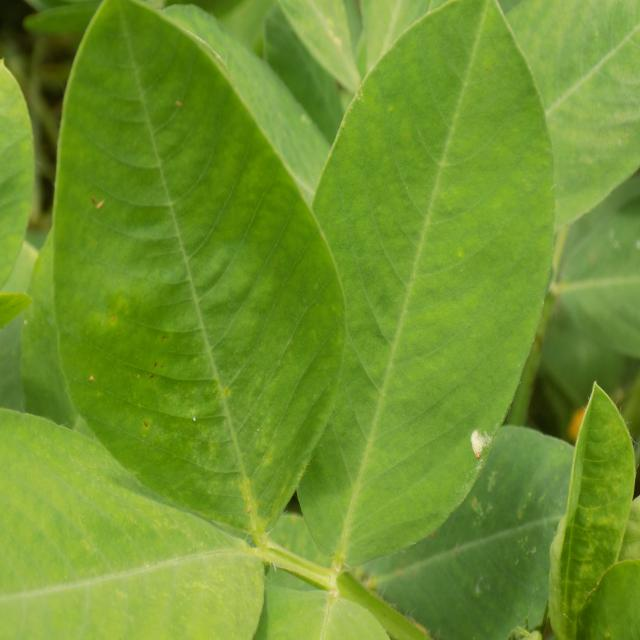Ground nut_healthy: (50, 0, 348, 541), (298, 0, 555, 565)
